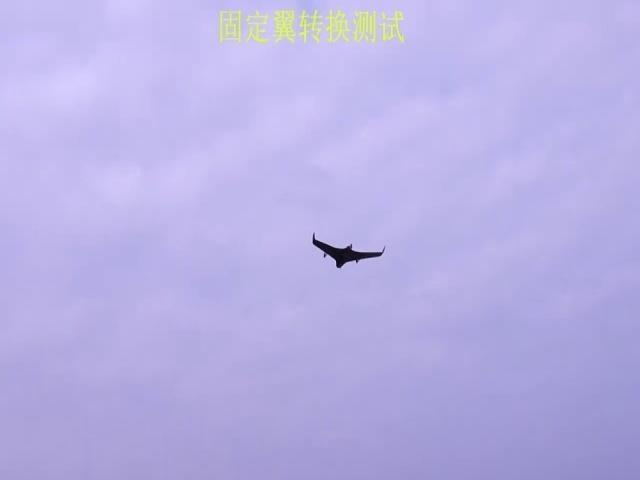Airplane: (312, 232, 386, 268)
